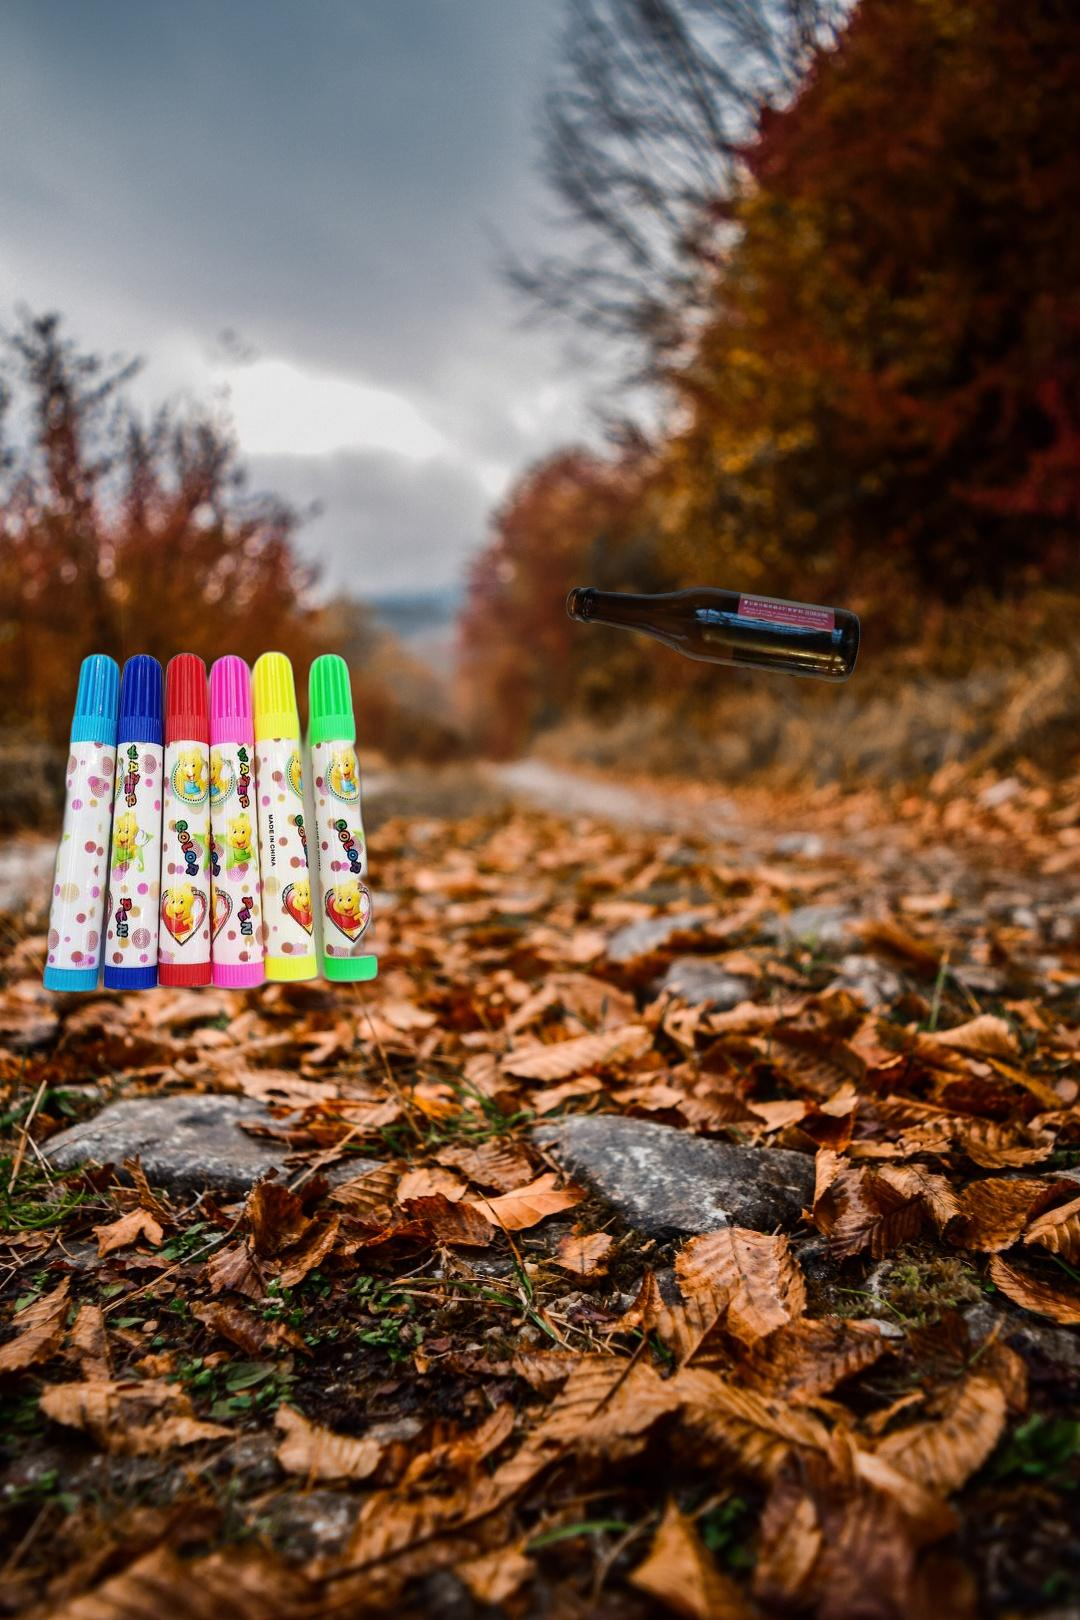glass: (562, 583, 865, 687)
penholder: (39, 645, 383, 997)
